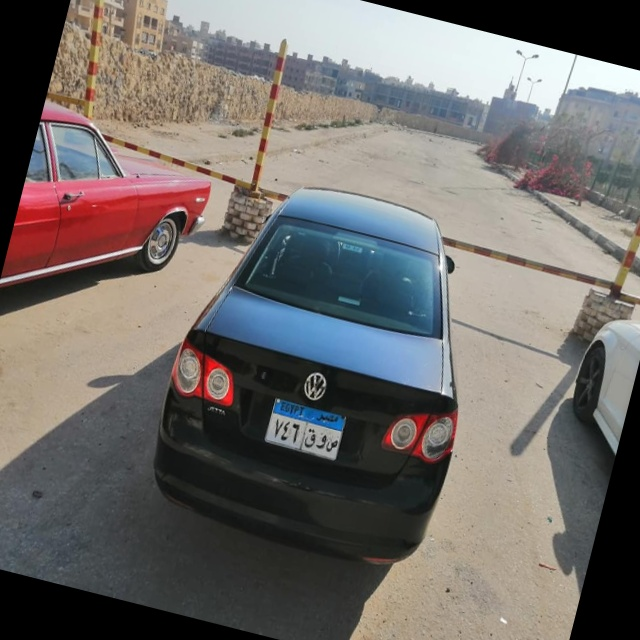License Plate: (262, 396, 349, 464)
